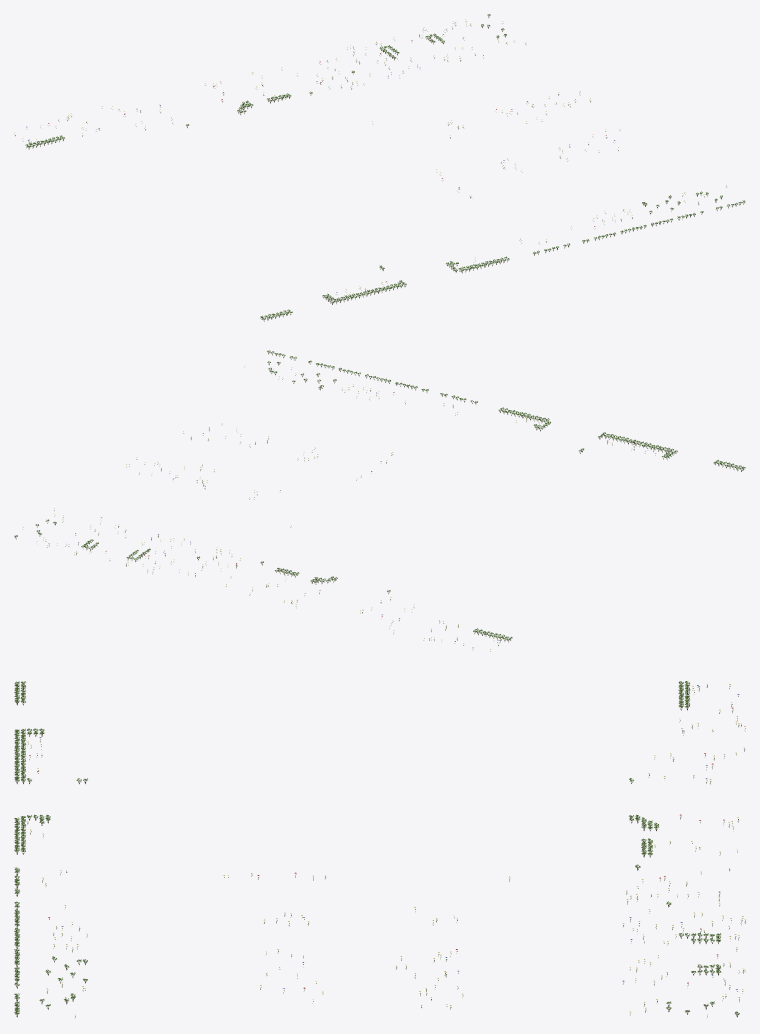
3 renders of one model, top to bottom at view 1: azimuth 30°, elevation 25°; view 2: azimuth 150°, elevation 25°; view 3: azimuth 270°, elevation 25°, orthographic. The views are drawn at different scales.
Parts seen in each view (by area): view 1: GROUND_FLORA_s_-6_3; view 2: GROUND_FLORA_s_-6_3; view 3: GROUND_FLORA_s_-6_3.
Boxes of the visible parts, x1,y1,x2,y2 form: GROUND_FLORA_s_-6_3: (14, 14, 745, 321); GROUND_FLORA_s_-6_3: (14, 350, 745, 651); GROUND_FLORA_s_-6_3: (14, 681, 745, 1017).
Bounding box in the file's own units: 128 × 0.9729 × 118.
